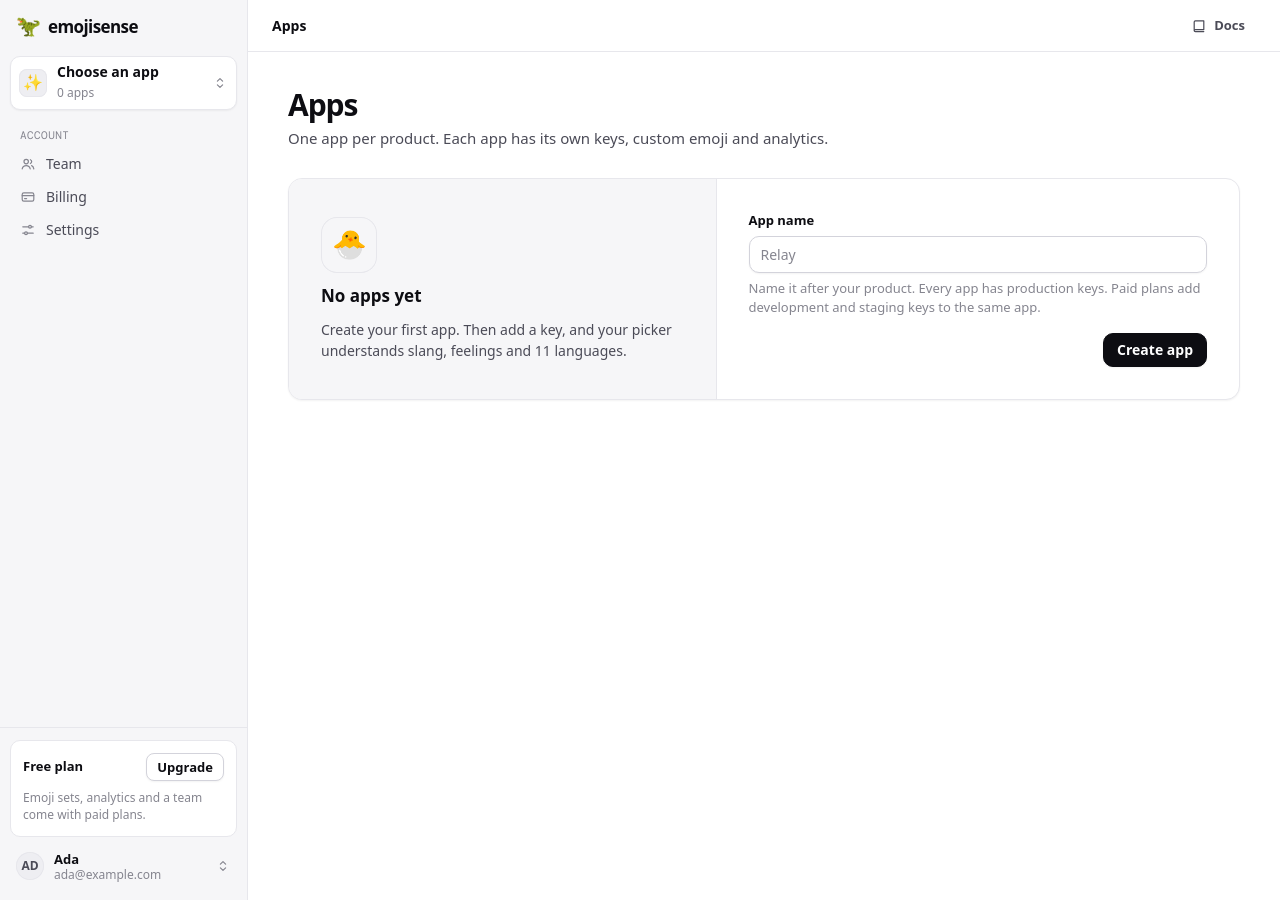
Test: apps page › shows a server error next to the form
Click the button "Create app" at (1155, 350), box [1103,333,1207,367]
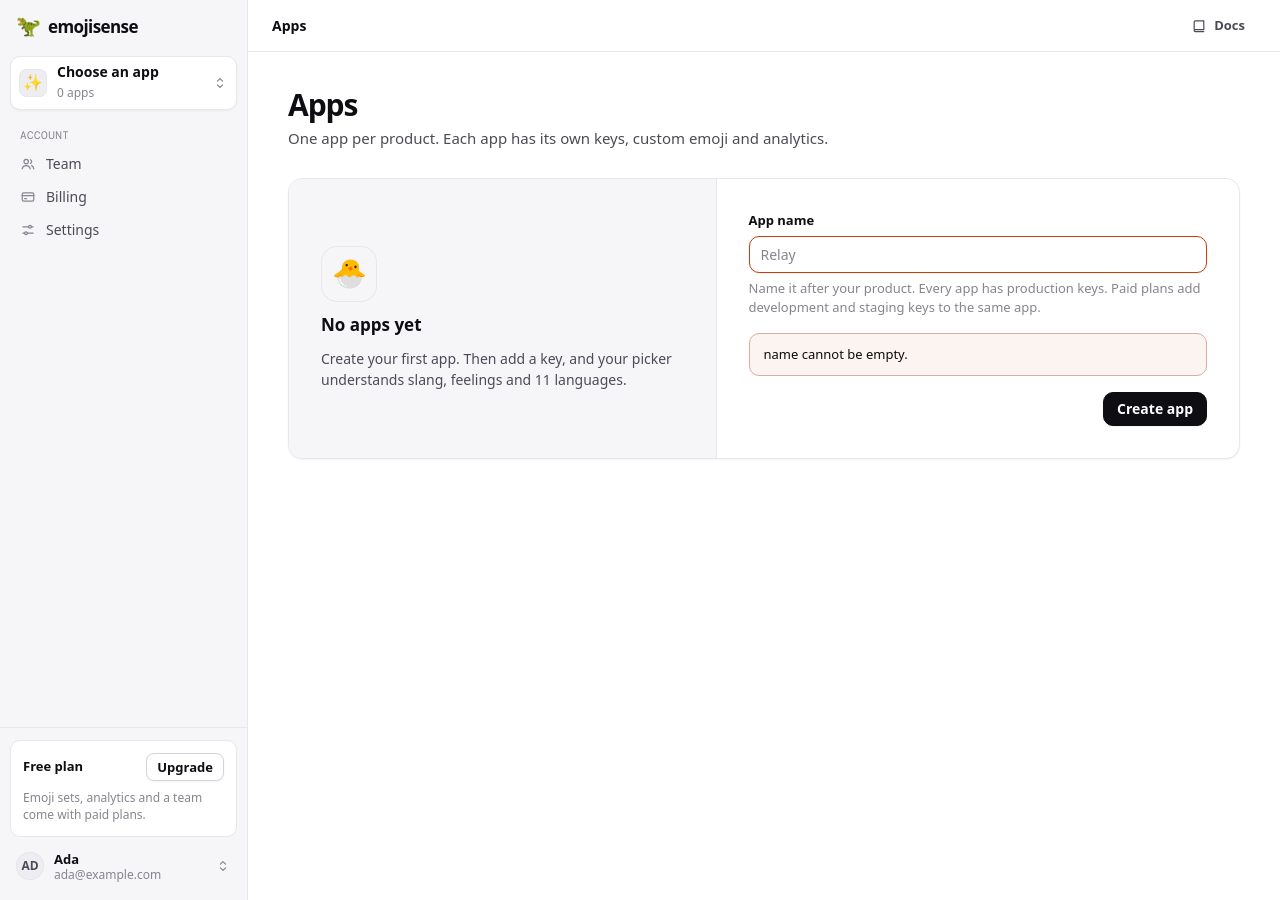
Now the message reads "name cannot be empty.", box [764,345,908,363]
